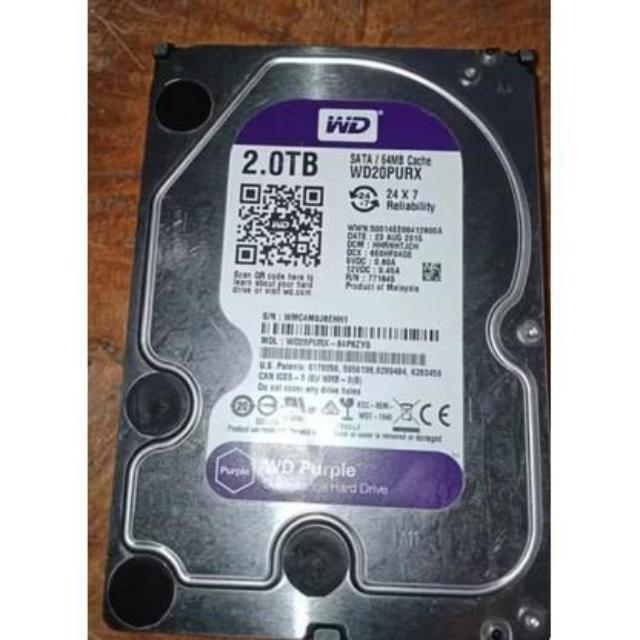DISK: (114, 28, 548, 640)
